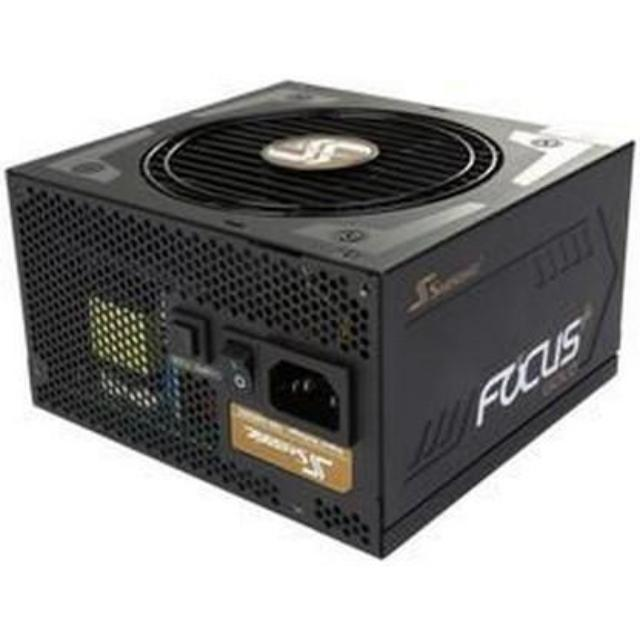PSU: (0, 74, 640, 562)
